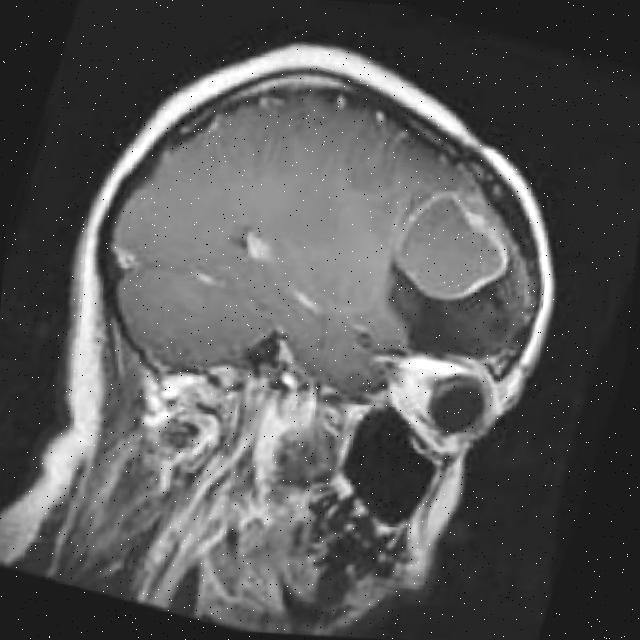MCI: (370, 174, 542, 330)
